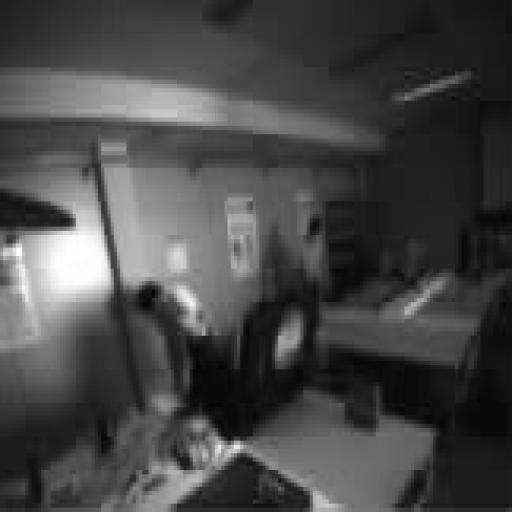human: (136, 282, 221, 470)
